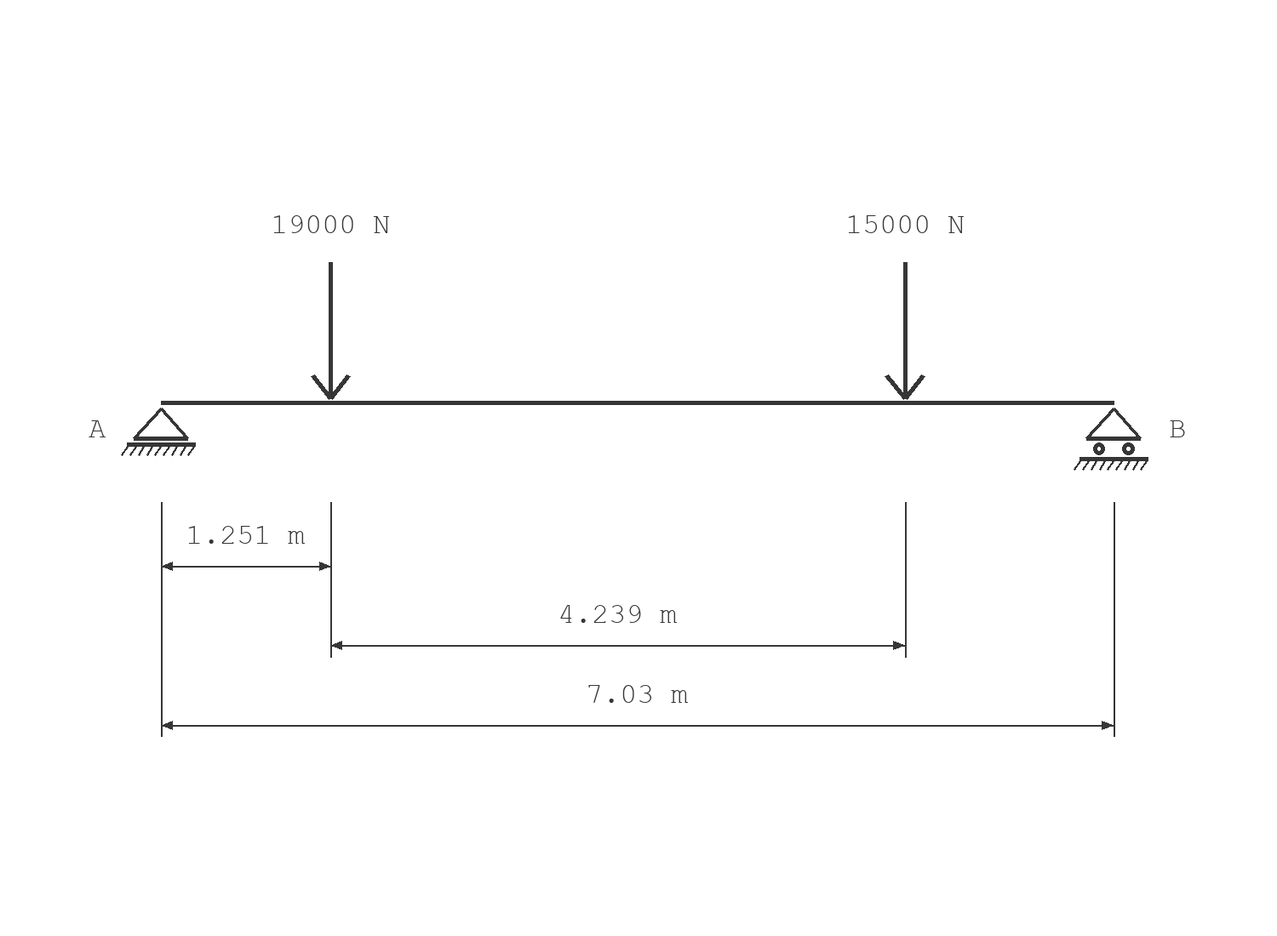pin_support: (121, 408, 196, 456)
point_load: (311, 262, 351, 400), (885, 262, 925, 400)
roller_support: (1074, 408, 1148, 471)
